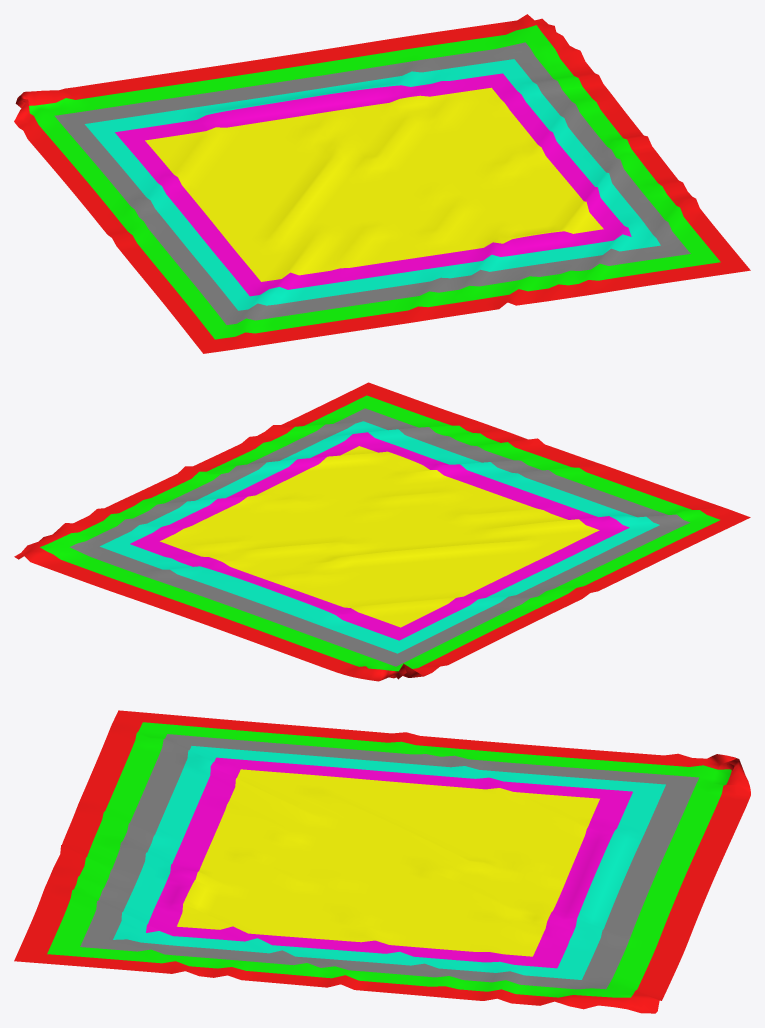
The model's file is Rug2.fbx.
3 renders of one model, top to bottom at view 1: azimuth 30°, elevation 25°; view 2: azimuth 150°, elevation 25°; view 3: azimuth 270°, elevation 25°, orthographic. The views are drawn at different scales.
Parts seen in each view (by area): view 1: Rug; view 2: Rug; view 3: Rug.
Part boxes in pixels (x1,y1,x2,y2): Rug: (14,14,750,353); Rug: (14,382,750,681); Rug: (14,710,750,1013).
Bounding box in the file's own units: 133 × 3.46 × 137.
